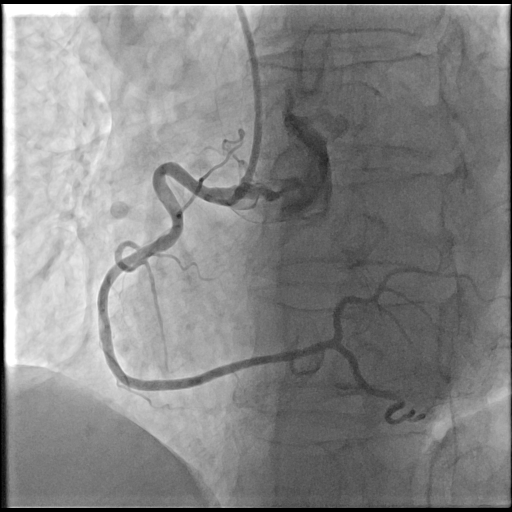RCA: (98, 145, 426, 425)
catherter: (237, 6, 261, 197)
